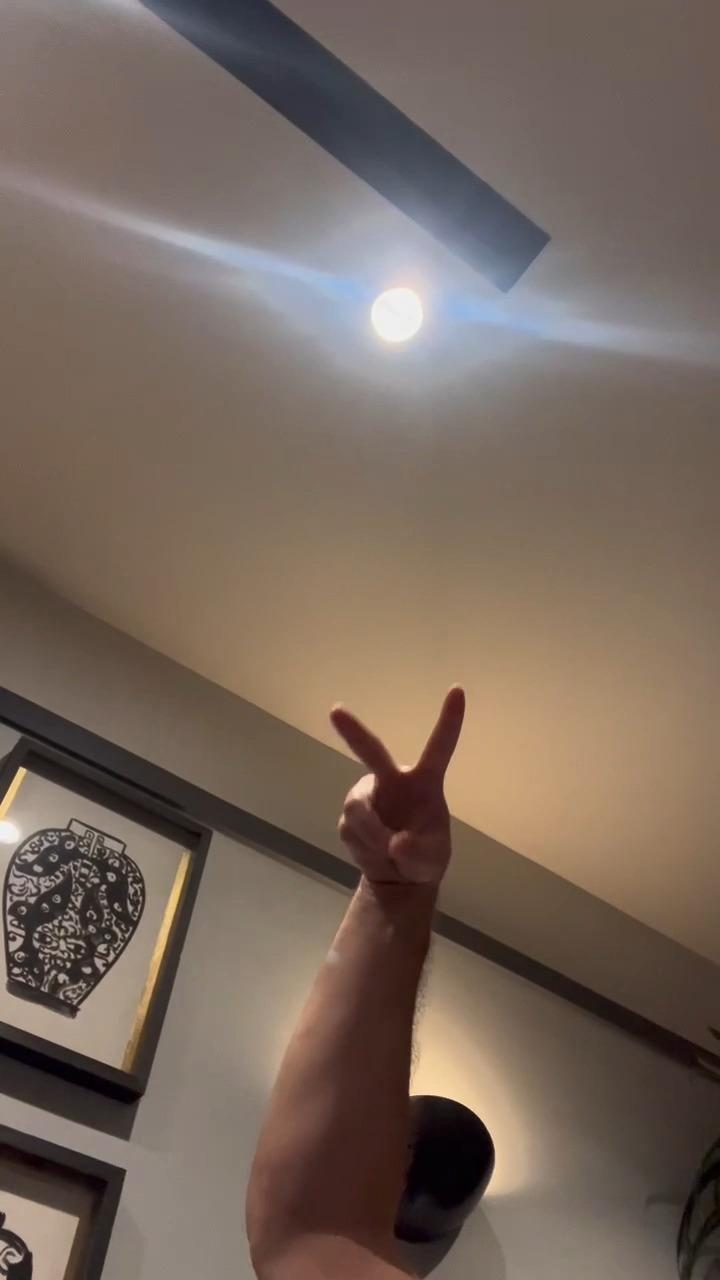Scissors: (322, 686, 469, 884)
